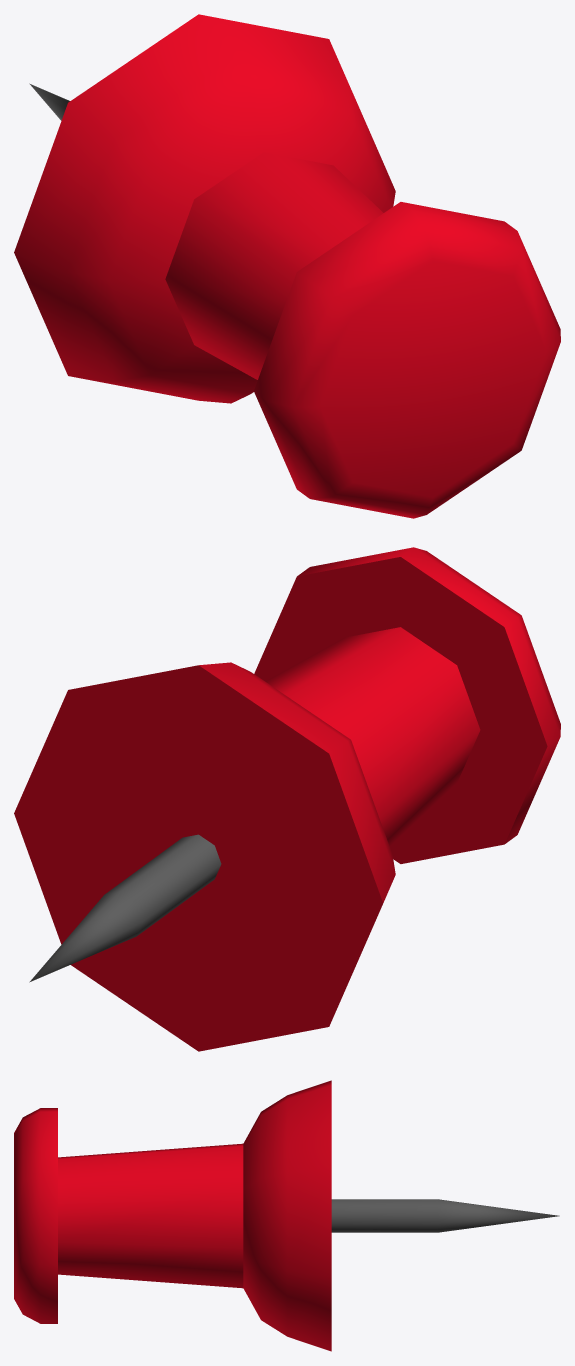
File: thumbtack.fbx
3 views of the same model, one above another, from view 1: azimuth 30°, elevation 25°; view 2: azimuth 150°, elevation 25°; view 3: azimuth 270°, elevation 25° (orthographic). The views are drawn at different scales.
Visible parts, largest first — view 1: Cylinder; view 2: Cylinder; view 3: Cylinder.
Part boxes in pixels (bbox=[...]): Cylinder: bbox=[14, 14, 560, 518]; Cylinder: bbox=[14, 547, 560, 1051]; Cylinder: bbox=[14, 1080, 559, 1351].
Bounding box in the file's own units: 327 × 327 × 620.
